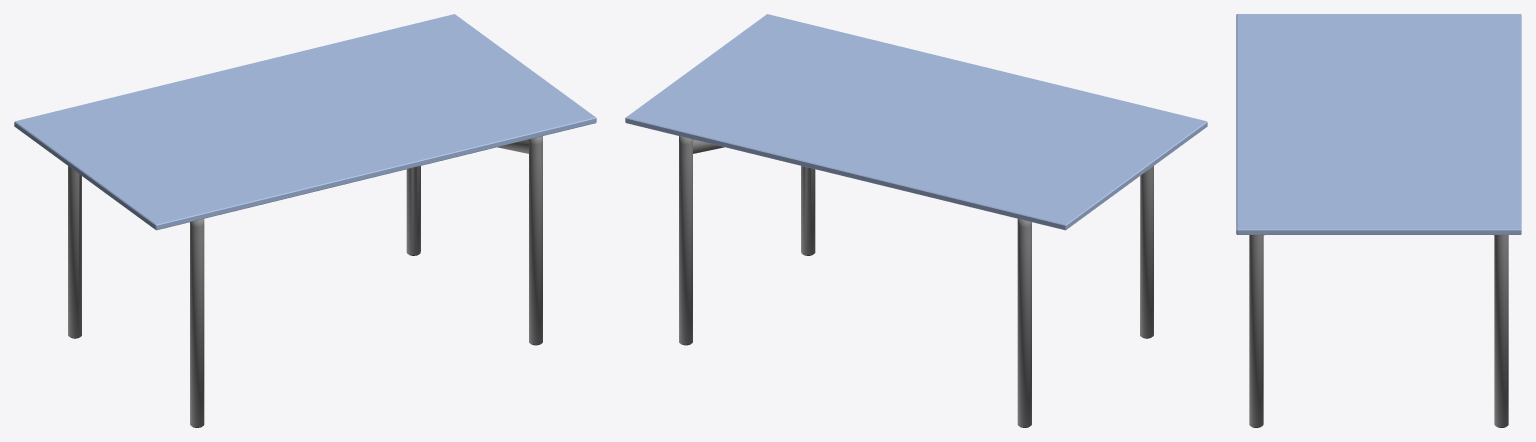
File: sh_scopia_metal_glass_table.glb
The picture shows the model from 3 angles, left to right: view 1: azimuth 30°, elevation 25°; view 2: azimuth 150°, elevation 25°; view 3: azimuth 270°, elevation 25°; orthographic projection.
Bounding box in the file's own units: 1.61 × 0.767 × 0.897.
